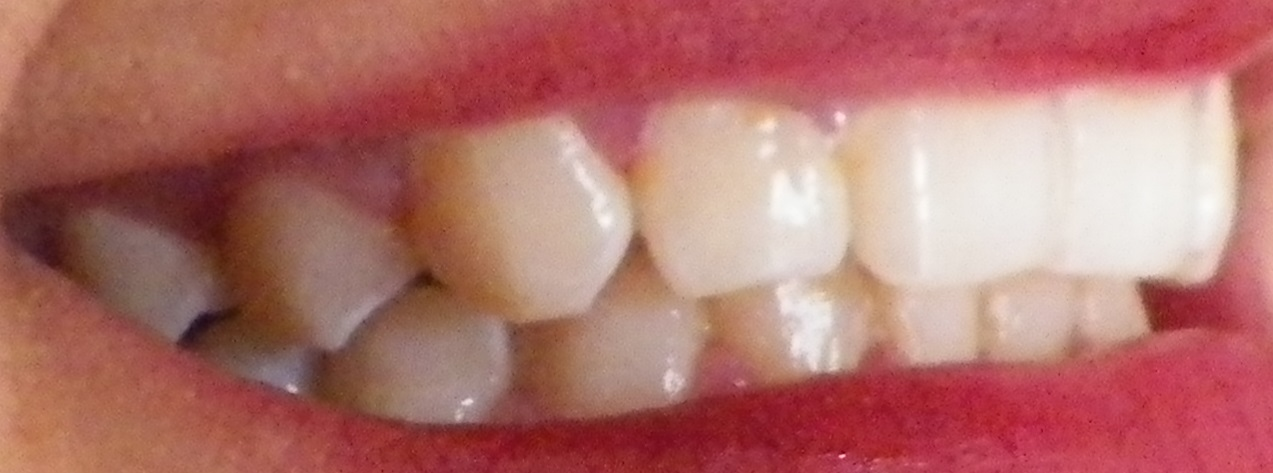boca: (77, 75, 1272, 409)
